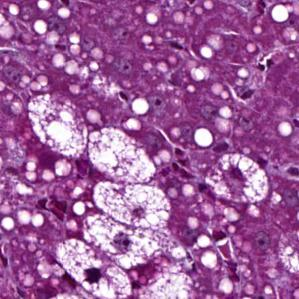ballooning: (78, 179, 174, 232), (51, 237, 134, 296), (25, 90, 91, 162), (85, 127, 157, 185), (204, 150, 272, 208)
